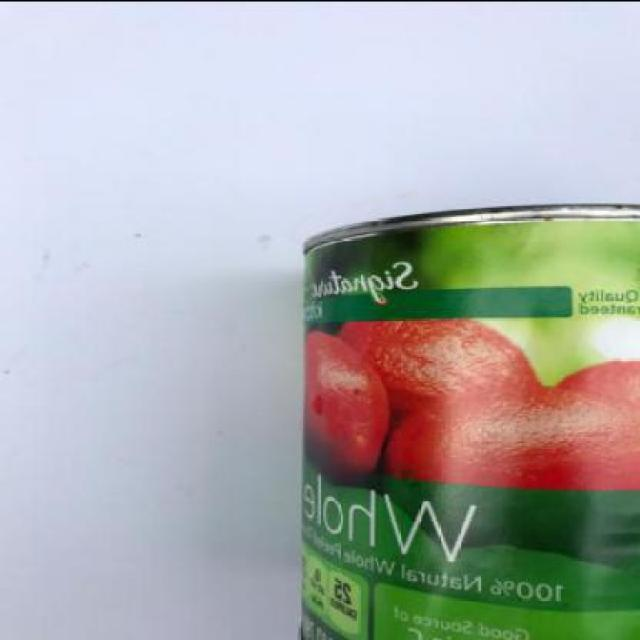METAL: (302, 202, 638, 640)
